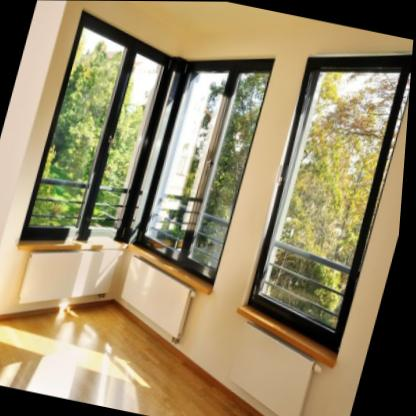Window: (251, 47, 413, 351), (24, 8, 166, 238), (142, 58, 274, 280)
Wooden floor: (0, 300, 266, 416)
